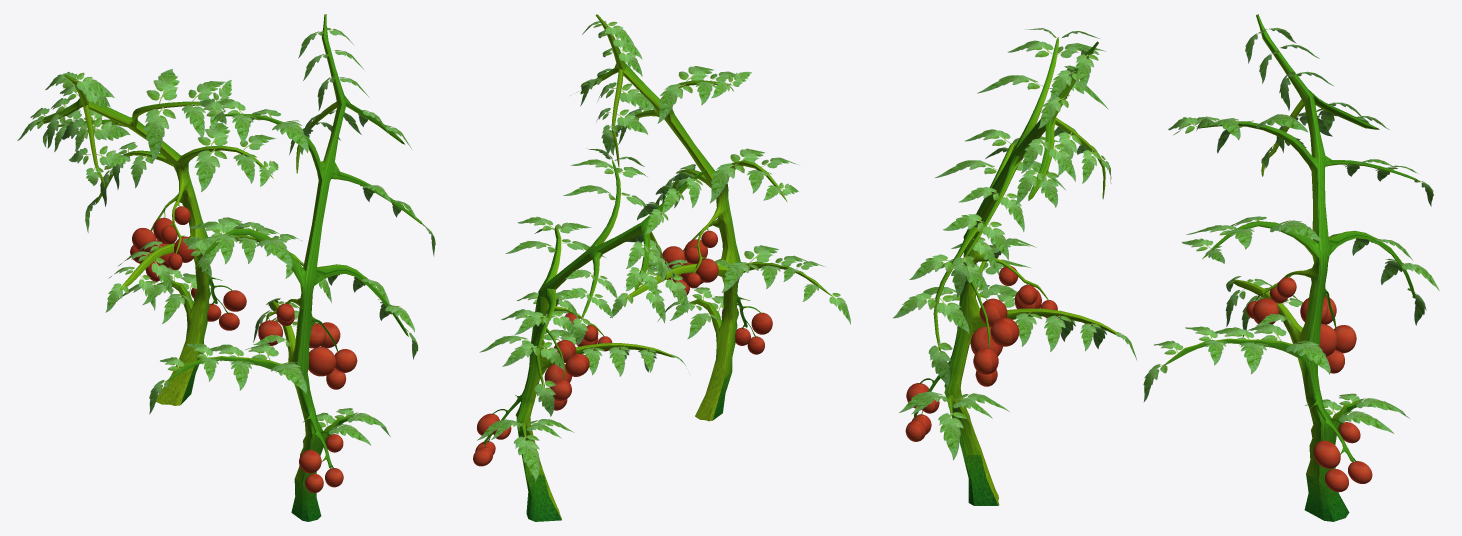
Rendered from tomatoPlant-2.glb.
3 views of the same model, side by side, from view 1: azimuth 30°, elevation 25°; view 2: azimuth 150°, elevation 25°; view 3: azimuth 270°, elevation 25° (orthographic). The views are drawn at different scales.
Parts seen in each view (by area): view 1: group5, pCube1, tomato1, pasted__pasted__pasted__pPlane2, pasted__pasted__pPlane2, pasted__pPlane2; view 2: group5, pCube1, pasted__leaf2, pasted__pasted__leaf2, leaf2, pasted__leaf13; view 3: group5, pCube1, pasted__pPlane5, tomato3, leaf20.
Part boxes in pixels (bbox=[...]): group5: bbox=[17, 69, 331, 405]; pCube1: bbox=[165, 14, 423, 521]; tomato1: bbox=[308, 347, 336, 376]; pasted__pasted__pasted__pPlane2: bbox=[272, 120, 308, 153]; pasted__pasted__pPlane2: bbox=[256, 237, 292, 269]; pasted__pPlane2: bbox=[271, 362, 306, 393]; group5: bbox=[473, 148, 706, 521]; pCube1: bbox=[580, 14, 832, 421]; pasted__leaf2: bbox=[709, 163, 744, 203]; pasted__pasted__leaf2: bbox=[657, 84, 692, 123]; leaf2: bbox=[721, 262, 758, 292]; pasted__leaf13: bbox=[619, 83, 655, 110]; group5: bbox=[1143, 14, 1439, 521]; pCube1: bbox=[914, 37, 1117, 505]; pasted__pPlane5: bbox=[938, 412, 966, 460]; tomato3: bbox=[990, 317, 1019, 346]; leaf20: bbox=[928, 340, 952, 387].
Size of the model in its own units: 10.38 by 15.54 by 15.83.
Materials: 2 (2 with a texture image).
